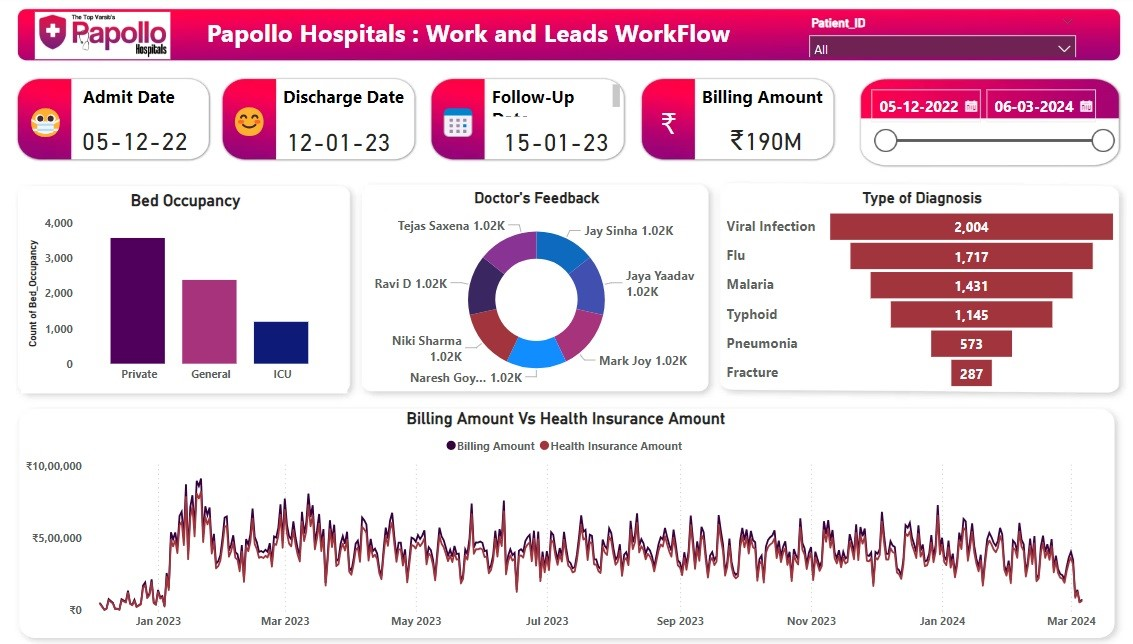

This screenshot's page, from the dashboard's own definition file:
{"tool":"powerbi","page":{"name":"Page 1","canvas":[1280,720],"ordinal":0},"visuals":[{"type":"image","box":[0,13.7,255.2,61.7],"z":0},{"type":"textbox","box":[237.4,17.8,598.3,52.1],"z":1000},{"type":"slicer","fields":{"Values":["Sheet1.Patient_ID"]},"box":[893.3,17.8,312.9,50.8],"z":2000},{"type":"card","fields":{"Values":["Sheet1.Admit_Date"]},"box":[87.8,140,150.9,39.8],"z":3000},{"type":"textbox","box":[101.5,93.3,130.4,45.3],"z":4000},{"type":"textbox","box":[321.1,93.3,150.9,45.3],"z":5000},{"type":"card","fields":{"Values":["Sheet1.Discharge_Date"]},"box":[311.5,141.3,150.9,39.8],"z":6000},{"type":"textbox","box":[550.3,93.3,150.9,45.3],"z":7000},{"type":"card","fields":{"Values":["Sheet1.Followup Date"]},"box":[550.3,141.3,150.9,39.8],"z":8000},{"type":"textbox","box":[780.8,93.3,160.5,45.3],"z":9000},{"type":"card","fields":{"Values":["Sheet1.Billing Amount"]},"box":[780.8,140,150.9,39.8],"z":10000},{"type":"slicer","fields":{"Values":["Sheet1.Admit_Date"]},"box":[959.2,93.3,288.2,83.7],"z":11000},{"type":"columnChart","title":"Bed Occupancy","fields":{"Category":["Sheet1.Bed_Occupancy"],"Y":["Sheet1.Bed_Occupancy"]},"box":[38.4,212.7,358.1,225],"z":12000},{"type":"donutChart","title":"Doctor''s Feedback","fields":{"Category":["Sheet1.Doctor"],"Y":["Sheet1.Doctor"]},"box":[414.4,212.7,380.1,225],"z":13000},{"type":"funnel","title":"Type of Diagnosis","fields":{"Category":["Sheet1.Diagnosis"],"Y":["Sheet1.Diagnosis"]},"box":[808.2,212.7,439.1,225],"z":14000},{"type":"lineChart","title":"Billing Amount Vs Health Insurance Amount","fields":{"Y":["Sheet1.Billing Amount","Sheet1.Health Insurance Amount"],"Category":["Sheet1.Admit_Date.Variation.Date Hierarchy.Year","Sheet1.Admit_Date.Variation.Date Hierarchy.Quarter","Sheet1.Admit_Date.Variation.Date Hierarchy.Month","Sheet1.Admit_Date.Variation.Date Hierarchy.Day"]},"box":[38.4,454.2,1196.6,251.1],"z":15000},{"type":"textbox","box":[262.1,111.1,49.4,54.9],"z":15001},{"type":"textbox","box":[38.4,112.5,59,54.9],"z":15002},{"type":"textbox","box":[491.3,112.5,59,54.9],"z":15003},{"type":"textbox","box":[735.5,113.9,59,54.9],"z":15004}]}

Visuals, with their boxes in screenshot pixels (x1, y1, x2, y2), scaled from the page's 1280x720 canvas onto the 1133x644 screenshot:
image: x1=0, y1=12, x2=226, y2=67
textbox: x1=210, y1=16, x2=740, y2=63
slicer - Sheet1.Patient_ID: x1=791, y1=16, x2=1068, y2=61
card - Sheet1.Admit_Date: x1=78, y1=125, x2=211, y2=161
textbox: x1=90, y1=83, x2=205, y2=124
textbox: x1=284, y1=83, x2=418, y2=124
card - Sheet1.Discharge_Date: x1=276, y1=126, x2=409, y2=162
textbox: x1=487, y1=83, x2=621, y2=124
card - Sheet1.Followup Date: x1=487, y1=126, x2=621, y2=162
textbox: x1=691, y1=83, x2=833, y2=124
card - Sheet1.Billing Amount: x1=691, y1=125, x2=825, y2=161
slicer - Sheet1.Admit_Date: x1=849, y1=83, x2=1104, y2=158
"Bed Occupancy" columnChart: x1=34, y1=190, x2=351, y2=391
"Doctor''s Feedback" donutChart: x1=367, y1=190, x2=703, y2=391
"Type of Diagnosis" funnel: x1=715, y1=190, x2=1104, y2=391
"Billing Amount Vs Health Insurance Amount" lineChart: x1=34, y1=406, x2=1093, y2=631
textbox: x1=232, y1=99, x2=276, y2=148
textbox: x1=34, y1=101, x2=86, y2=150
textbox: x1=435, y1=101, x2=487, y2=150
textbox: x1=651, y1=102, x2=703, y2=151
